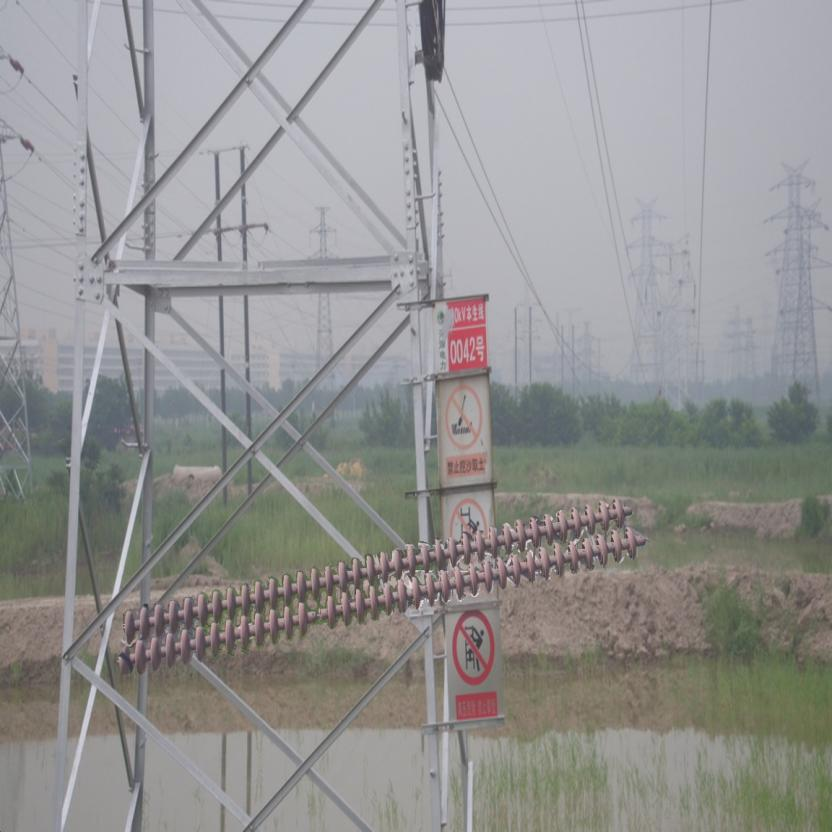defect: (293, 591, 338, 637)
